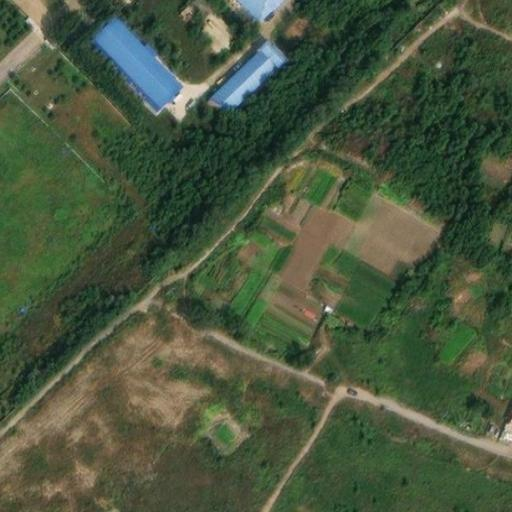building: (89, 8, 181, 100), (210, 41, 277, 107), (193, 8, 237, 52), (275, 8, 312, 46), (261, 32, 289, 60)
